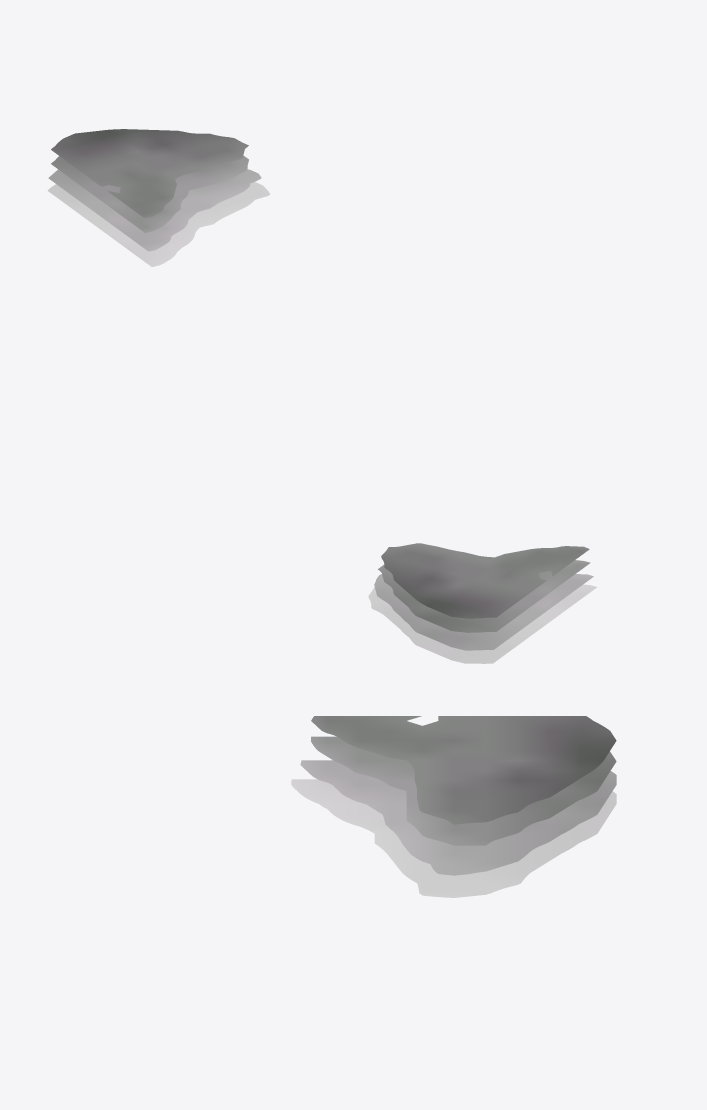
The model's file is SWORDLIGHT20_MAINCAVERNCLOUDS18.fbx.
3 renders of one model, top to bottom at view 1: azimuth 30°, elevation 25°; view 2: azimuth 150°, elevation 25°; view 3: azimuth 270°, elevation 25°, orthographic. The views are drawn at different scales.
Parts seen in each view (by area): view 1: SWORDLIGHT20_MAINCAVERNCLOUDS18; view 2: SWORDLIGHT20_MAINCAVERNCLOUDS18; view 3: SWORDLIGHT20_MAINCAVERNCLOUDS18.
Part boxes in pixels (x1=…): SWORDLIGHT20_MAINCAVERNCLOUDS18: x1=47, y1=129, x2=270, y2=266; SWORDLIGHT20_MAINCAVERNCLOUDS18: x1=368, y1=543, x2=597, y2=663; SWORDLIGHT20_MAINCAVERNCLOUDS18: x1=291, y1=716, x2=616, y2=897.
Size of the model in its own units: 161490 by 15056 by 146334.
4 materials, 4 textured.
